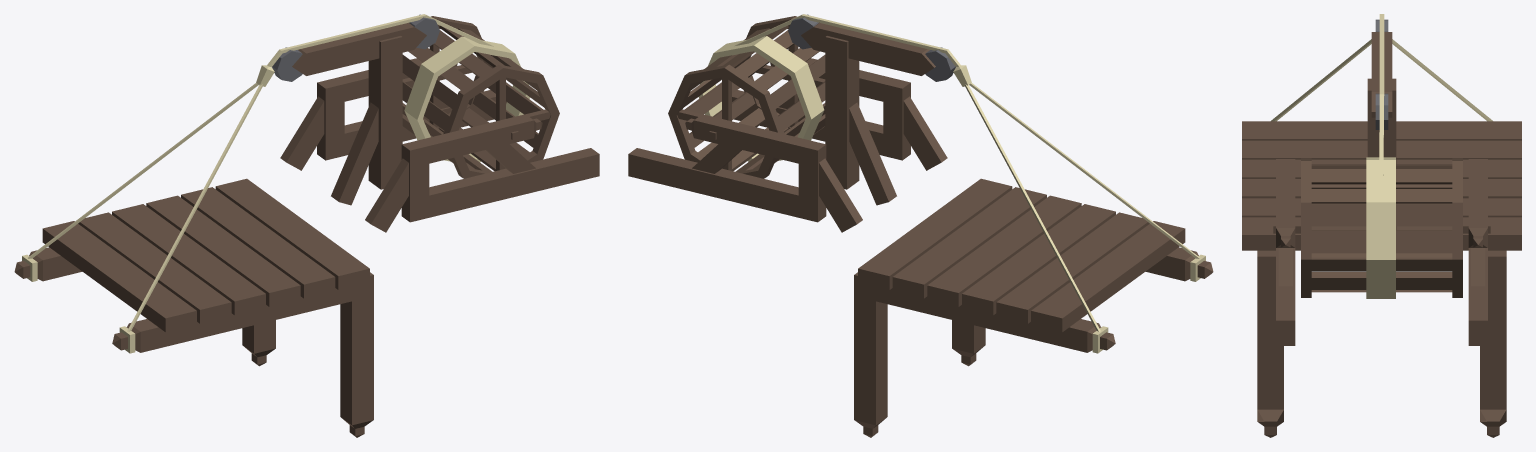
File: DeliveryPoint_Crane.fbx
The picture shows the model from 3 angles, left to right: view 1: azimuth 30°, elevation 25°; view 2: azimuth 150°, elevation 25°; view 3: azimuth 270°, elevation 25°; orthographic projection. The views are drawn at different scales.
Parts seen in each view (by area): view 1: DeliveryHanging.001; view 2: DeliveryHanging.001; view 3: DeliveryHanging.001.
Boxes of the visible parts, <box> form: DeliveryHanging.001: <box>14,14,599,437</box>; DeliveryHanging.001: <box>628,14,1213,437</box>; DeliveryHanging.001: <box>1242,14,1521,437</box>.
Bounding box in the file's own units: 595 × 417 × 259.
